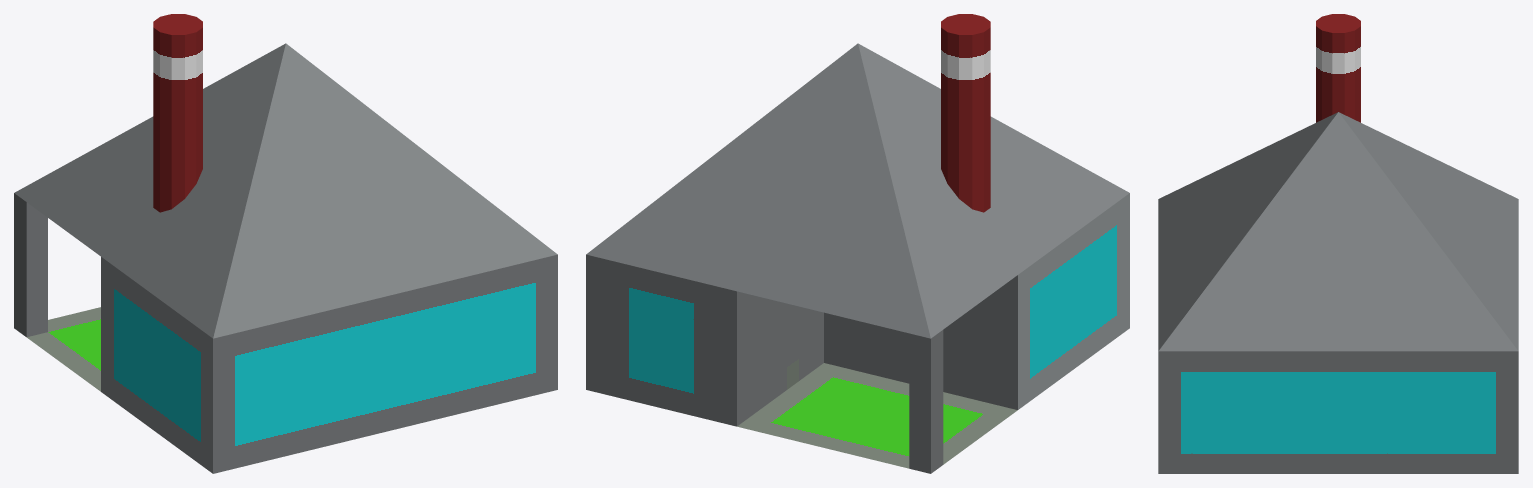
File: house.gltf
3 renders of one model, left to right at view 1: azimuth 30°, elevation 25°; view 2: azimuth 150°, elevation 25°; view 3: azimuth 270°, elevation 25°, orthographic. The views are drawn at different scales.
Visible parts, largest first — view 1: roof, house_section1, cylinder, pole, plane; view 2: roof, house_front, house_section1, plane, cylinder, pole; view 3: roof, house_section1, house_front, cylinder.
Boxes of the visible parts, box(x1,y1,x2,y2) form: roof: box(14, 43, 557, 338); house_section1: box(101, 254, 557, 473); cylinder: box(153, 14, 202, 212); pole: box(14, 193, 47, 337); plane: box(27, 307, 100, 391); roof: box(586, 43, 1129, 338); house_front: box(586, 254, 823, 426); house_section1: box(824, 193, 1129, 409); plane: box(737, 363, 1017, 468); cylinder: box(941, 14, 990, 212); pole: box(909, 330, 943, 473); roof: box(1158, 112, 1518, 351); house_section1: box(1158, 351, 1360, 473); house_front: box(1361, 351, 1518, 473); cylinder: box(1316, 14, 1360, 122).
Size of the model in its own units: 1 by 1 by 1.
7 materials, 6 textured.
